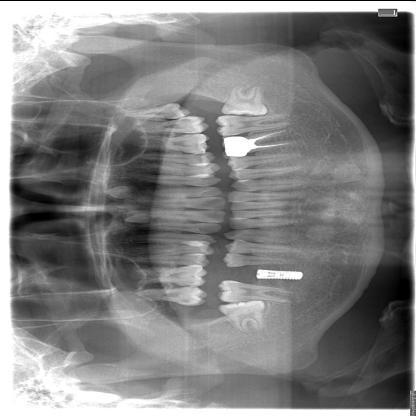ITI: (253, 266, 304, 281)
